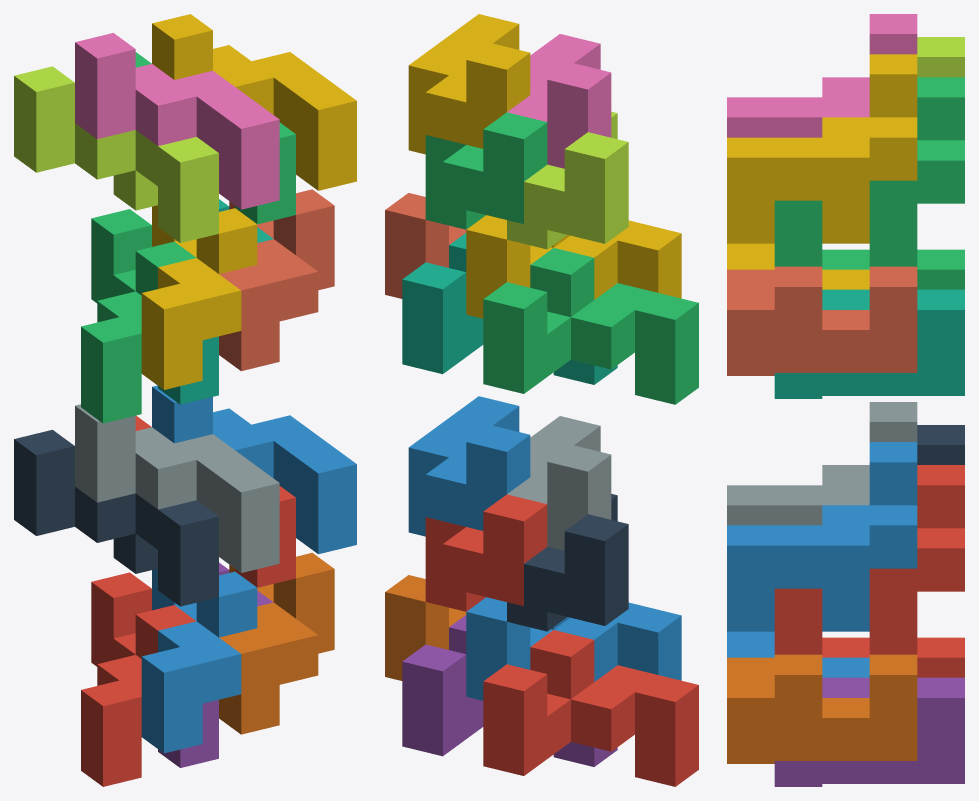
The model's file is tiling.obj.
3 renders of one model, left to right at view 1: azimuth 30°, elevation 25°; view 2: azimuth 150°, elevation 25°; view 3: azimuth 270°, elevation 25°, orthographic. The views are drawn at different scales.
Visible parts, largest first — view 1: copy_2_domain_4, copy_2_domain_2, copy_2_domain_1, copy_2_domain_3, copy_2_domain_8, copy_2_domain_6, copy_1_domain_2, copy_1_domain_4, copy_1_domain_3, copy_1_domain_1, copy_1_domain_6, copy_1_domain_8 (+4 smaller); view 2: copy_1_domain_1, copy_1_domain_3, copy_2_domain_6, copy_2_domain_8, copy_1_domain_4, copy_1_domain_2, copy_2_domain_5, copy_2_domain_7, copy_2_domain_1, copy_2_domain_3, copy_1_domain_5, copy_1_domain_7 (+4 smaller); view 3: copy_2_domain_6, copy_2_domain_8, copy_1_domain_6, copy_1_domain_8, copy_2_domain_5, copy_2_domain_7, copy_1_domain_5, copy_1_domain_7, copy_2_domain_4, copy_2_domain_2, copy_1_domain_1, copy_1_domain_3 (+4 smaller).
Part boxes in pixels (x1,y1,x2,y2): copy_2_domain_4: [75, 33, 279, 209]; copy_2_domain_2: [75, 404, 279, 572]; copy_2_domain_1: [14, 429, 218, 606]; copy_2_domain_3: [14, 66, 218, 242]; copy_2_domain_8: [152, 14, 356, 190]; copy_2_domain_6: [152, 385, 356, 554]; copy_1_domain_2: [141, 568, 257, 753]; copy_1_domain_4: [141, 205, 257, 389]; copy_1_domain_3: [81, 209, 196, 423]; copy_1_domain_1: [81, 572, 195, 786]; copy_1_domain_6: [219, 552, 334, 734]; copy_1_domain_8: [219, 189, 334, 371]; copy_1_domain_1: [483, 630, 698, 786]; copy_1_domain_3: [483, 248, 698, 404]; copy_2_domain_6: [408, 396, 530, 536]; copy_2_domain_8: [408, 14, 530, 154]; copy_1_domain_4: [466, 215, 681, 318]; copy_1_domain_2: [466, 597, 681, 700]; copy_2_domain_5: [425, 494, 547, 611]; copy_2_domain_7: [425, 112, 547, 229]; copy_2_domain_1: [507, 494, 628, 631]; copy_2_domain_3: [507, 111, 628, 249]; copy_1_domain_5: [402, 615, 617, 766]; copy_1_domain_7: [402, 233, 617, 384]; copy_2_domain_6: [727, 442, 917, 631]; copy_2_domain_8: [727, 54, 917, 243]; copy_1_domain_6: [727, 654, 917, 763]; copy_1_domain_8: [727, 266, 917, 375]; copy_2_domain_5: [774, 465, 964, 654]; copy_2_domain_7: [774, 77, 964, 266]; copy_1_domain_5: [774, 677, 964, 786]; copy_1_domain_7: [774, 289, 964, 398]; copy_2_domain_4: [727, 14, 917, 137]; copy_2_domain_2: [727, 402, 917, 525]; copy_1_domain_1: [822, 637, 964, 677]; copy_1_domain_3: [822, 249, 964, 289].
Bounding box in the file's own units: 6 × 17 × 5.
